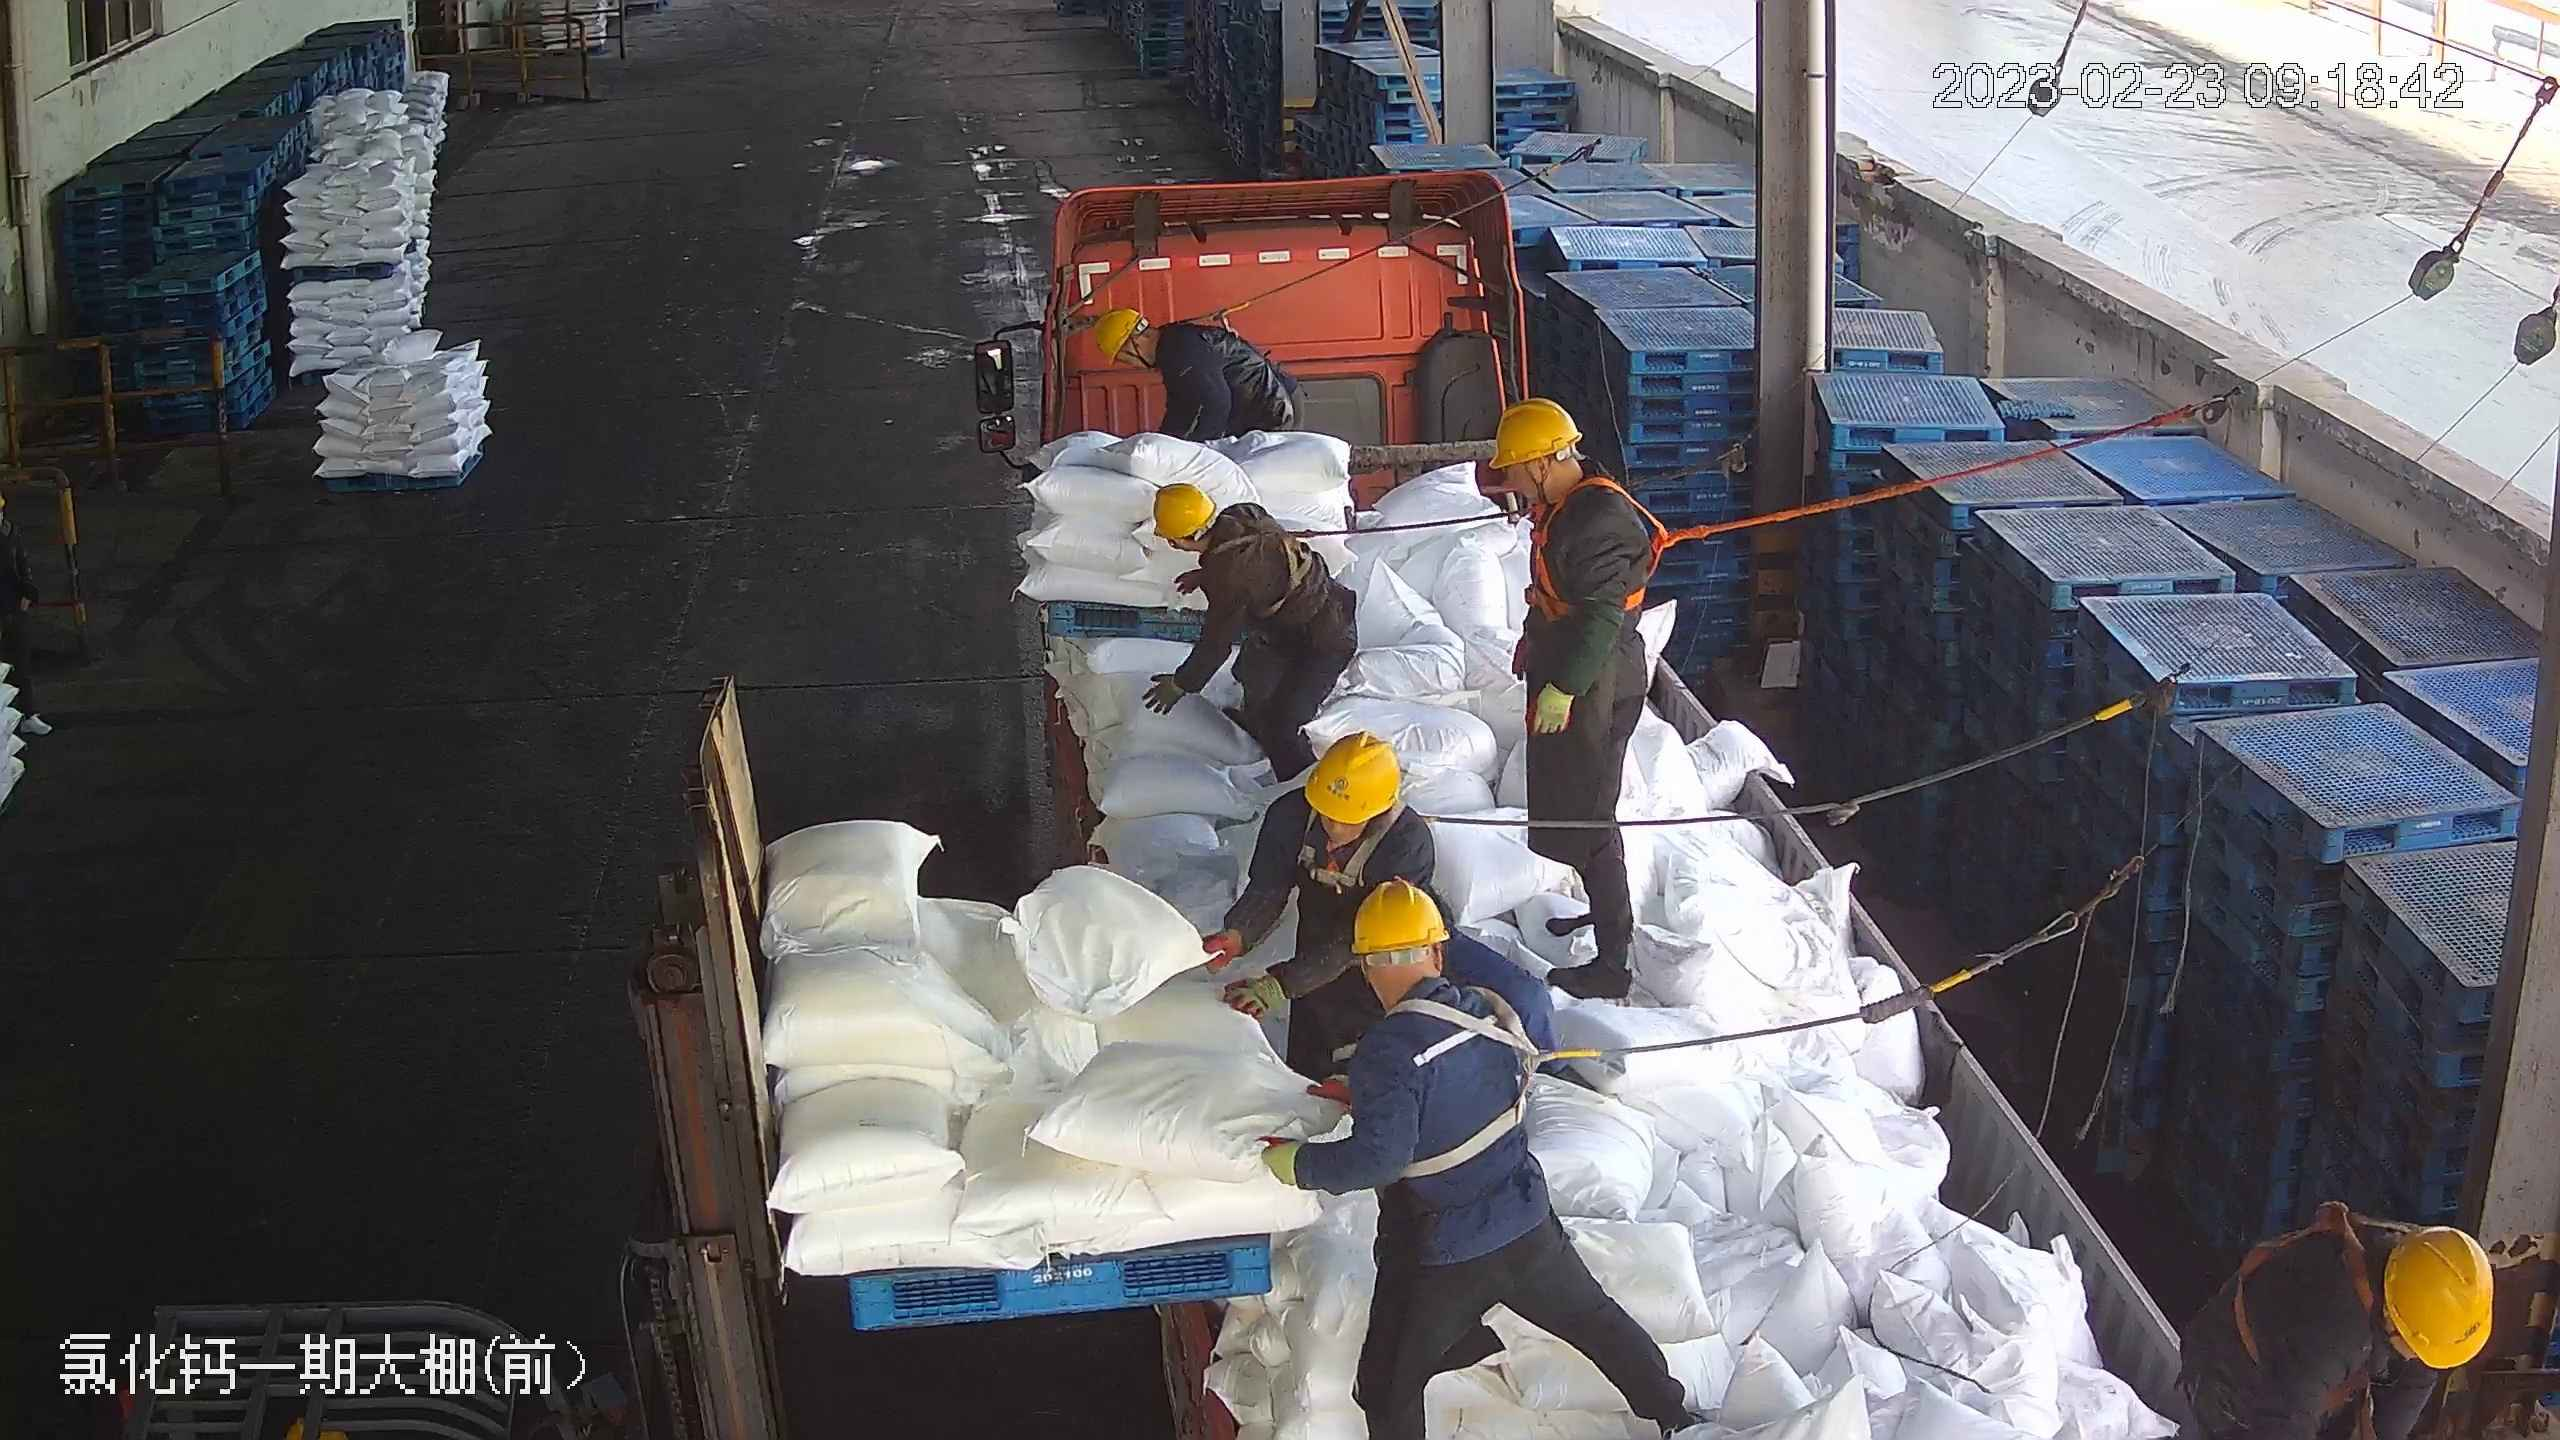belt: (1369, 979, 1608, 1175), (2223, 1202, 2381, 1396), (1518, 478, 1707, 618), (1308, 790, 1459, 884), (1206, 504, 1321, 614), (1174, 302, 1259, 352)
head: (2259, 1214, 2502, 1402), (1328, 878, 1527, 1103), (1480, 396, 1649, 587), (1257, 731, 1438, 883), (1154, 484, 1284, 604), (1096, 306, 1211, 397)
helmet: (2379, 1224, 2495, 1369), (1307, 732, 1401, 823), (1348, 881, 1450, 957), (1485, 398, 1582, 472), (1153, 482, 1214, 539), (1096, 305, 1144, 363)
people: (1249, 882, 1697, 1440), (1480, 406, 1667, 979), (1143, 482, 1361, 789), (1096, 303, 1303, 453)
truck: (962, 179, 2235, 1429)
